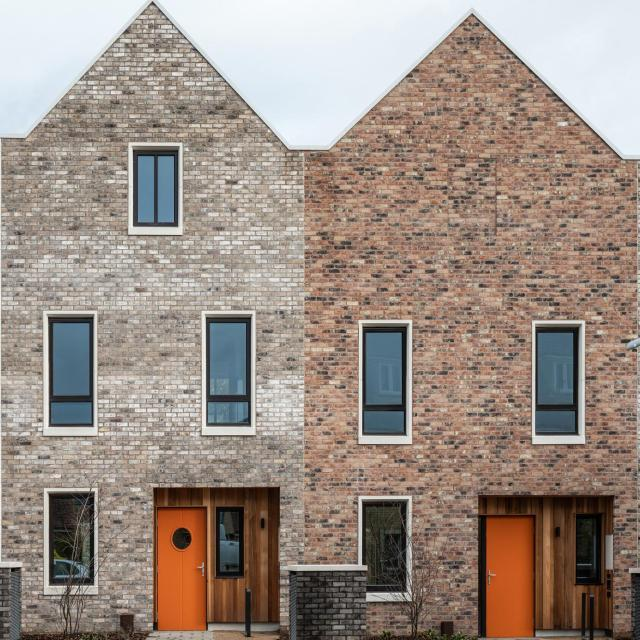door: (156, 508, 208, 631), (485, 518, 535, 636)
wall: (0, 0, 638, 640)
windows: (50, 315, 96, 425), (534, 330, 577, 434), (364, 329, 405, 433), (210, 318, 250, 424), (50, 491, 94, 587), (361, 503, 406, 586), (134, 154, 178, 224), (217, 505, 243, 571), (576, 512, 597, 575)
